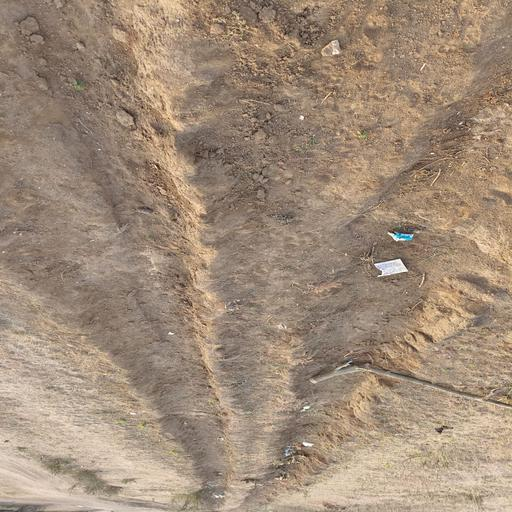vehicle_track: (0, 0, 240, 483), (287, 44, 512, 458)
